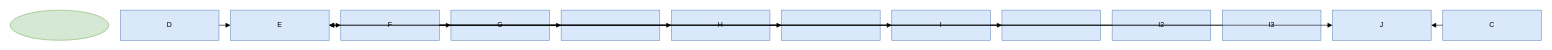
The diagram is 1552 pixels wide and 50 high, and some of its shapes have lost their labels. Here are the shapes that lost their labels. From the top down, the box of each, then its label:
(10, 10, 109, 40): Bắt đầu
(561, 10, 660, 40): G1
(781, 10, 880, 40): H1
(1001, 10, 1101, 40): I1
